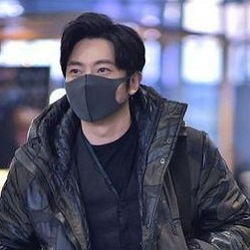mask: (63, 64, 124, 120)
